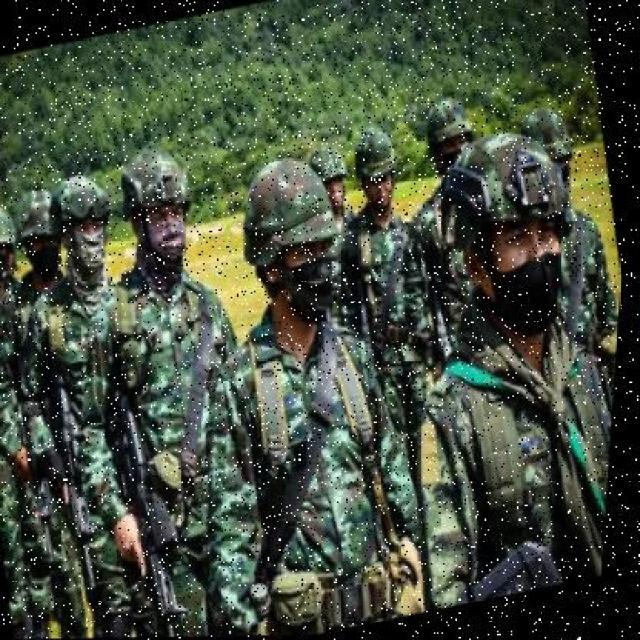MIL_Pax: (394, 94, 634, 603), (55, 142, 280, 628), (167, 186, 413, 628), (296, 94, 498, 532), (0, 158, 162, 640), (0, 184, 178, 547), (493, 79, 636, 508), (0, 189, 111, 640), (0, 194, 62, 640), (301, 121, 368, 242), (410, 73, 488, 170)
